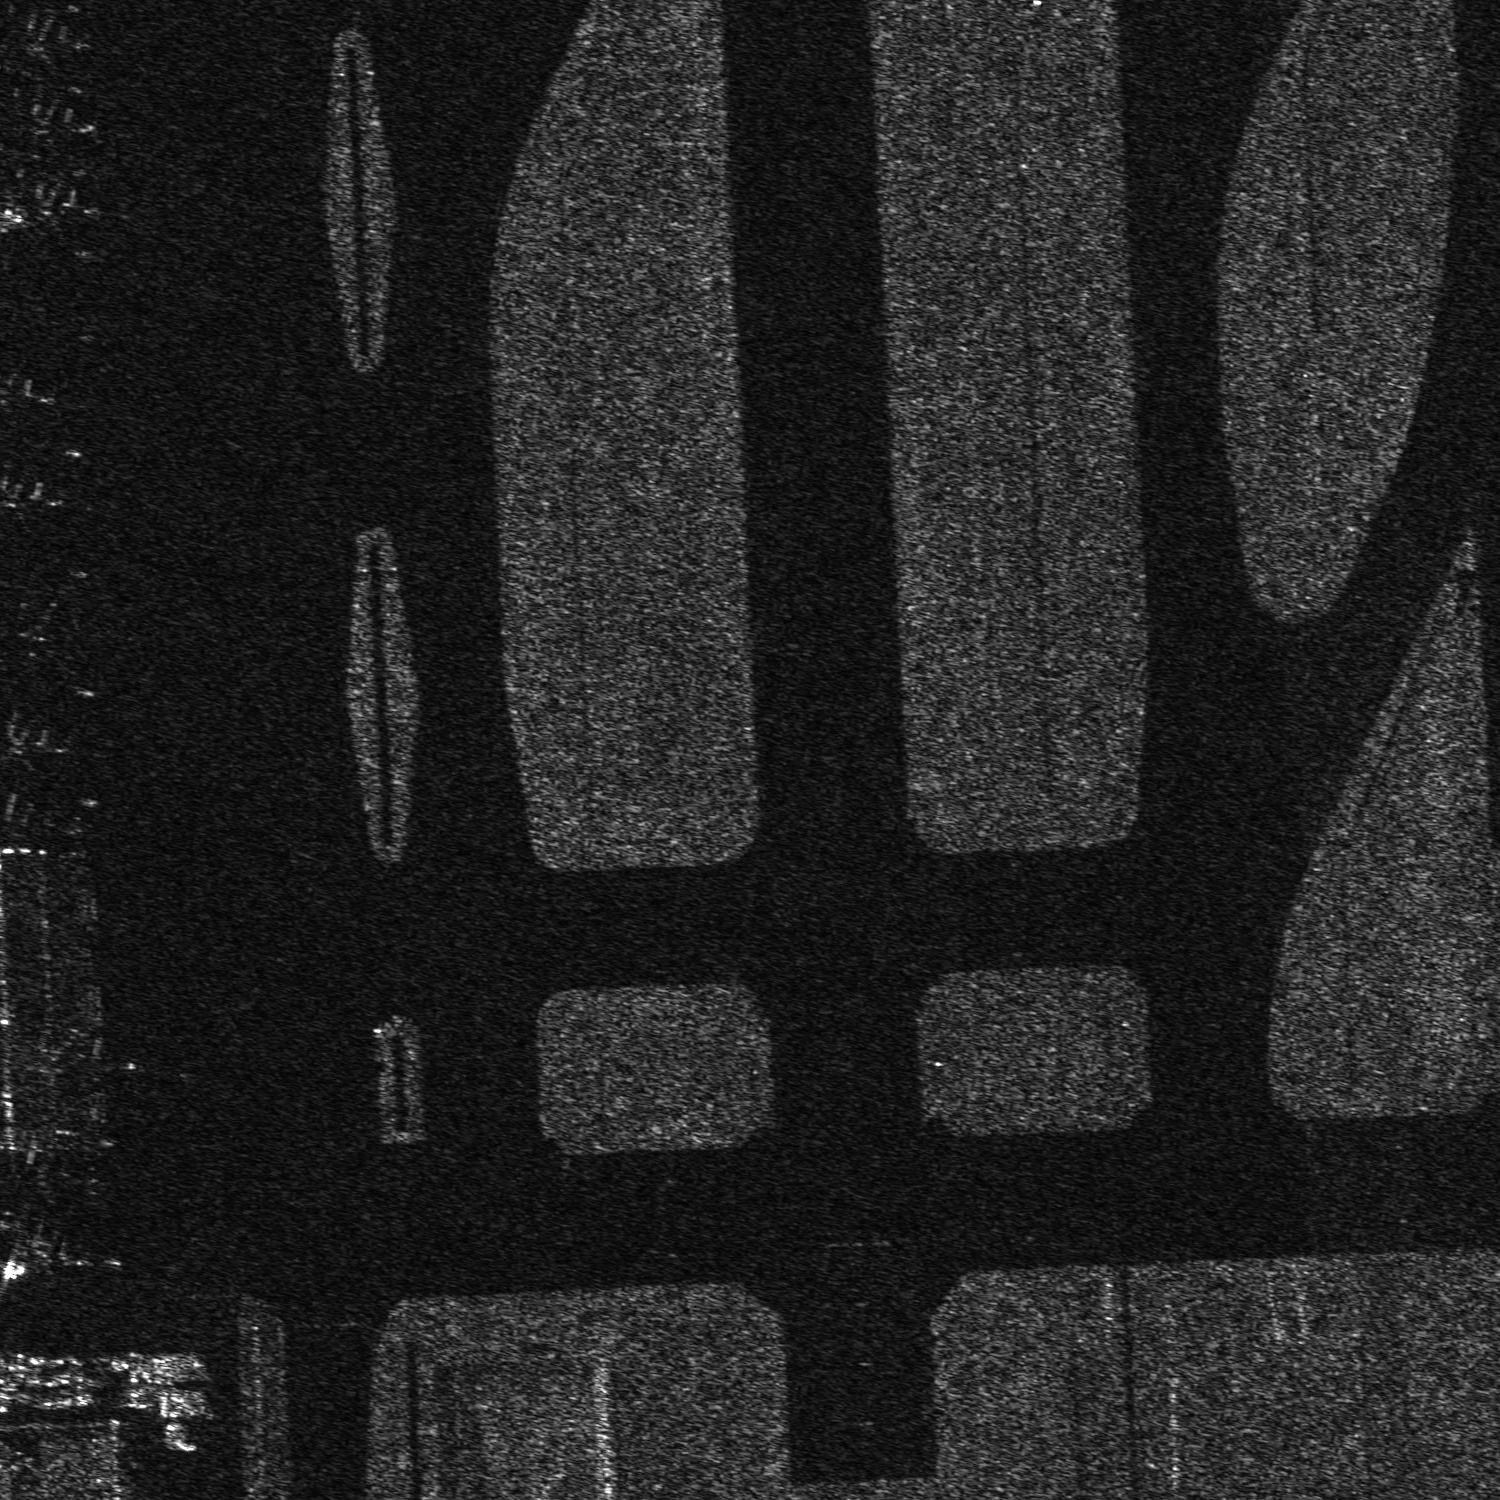A220: (36, 185, 133, 260), (25, 98, 109, 176)
